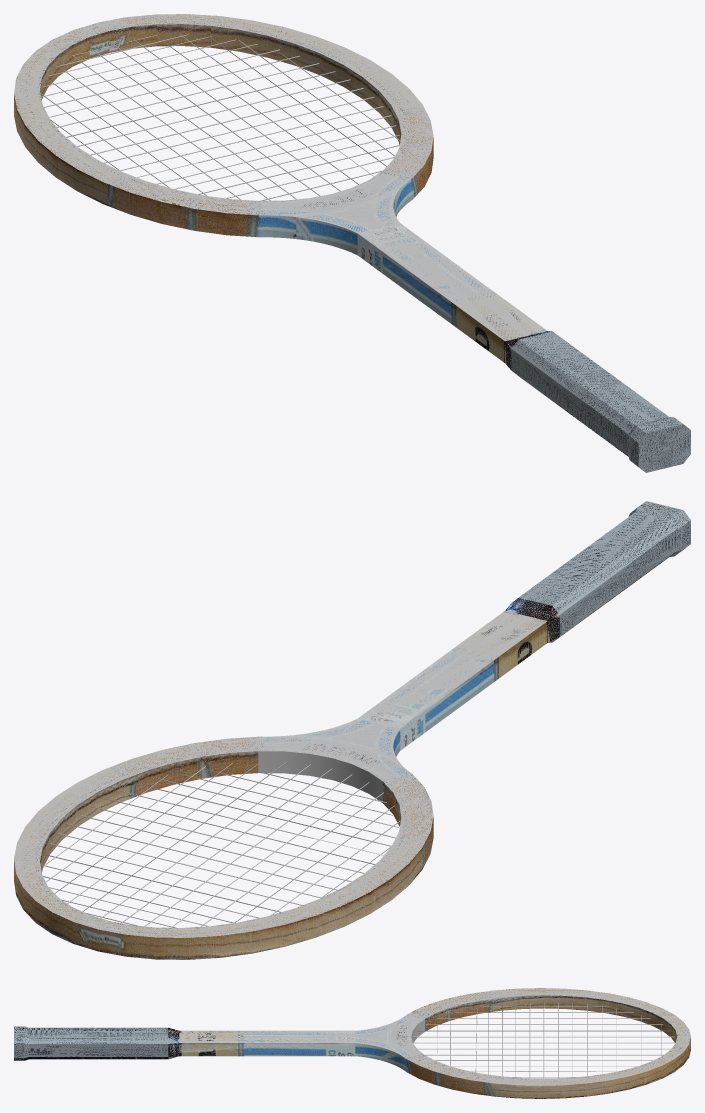
3 views of the same model, one above another, from view 1: azimuth 30°, elevation 25°; view 2: azimuth 150°, elevation 25°; view 3: azimuth 270°, elevation 25° (orthographic). The views are drawn at different scales.
Visible parts, largest first — view 1: group_0 (×3); view 2: group_0 (×4); view 3: group_0 (×3), group_2 (×8).
Boxes of the visible parts, bbox=[...] form: group_0 (×3): bbox=[14, 14, 690, 472]; group_0 (×4): bbox=[14, 501, 690, 959]; group_0 (×3): bbox=[14, 988, 690, 1098]; group_2 (×8): bbox=[413, 1018, 675, 1060].
Bounding box in the file's own units: 9.45 × 27.62 × 1.07.
Materials: 7 (4 with a texture image).
